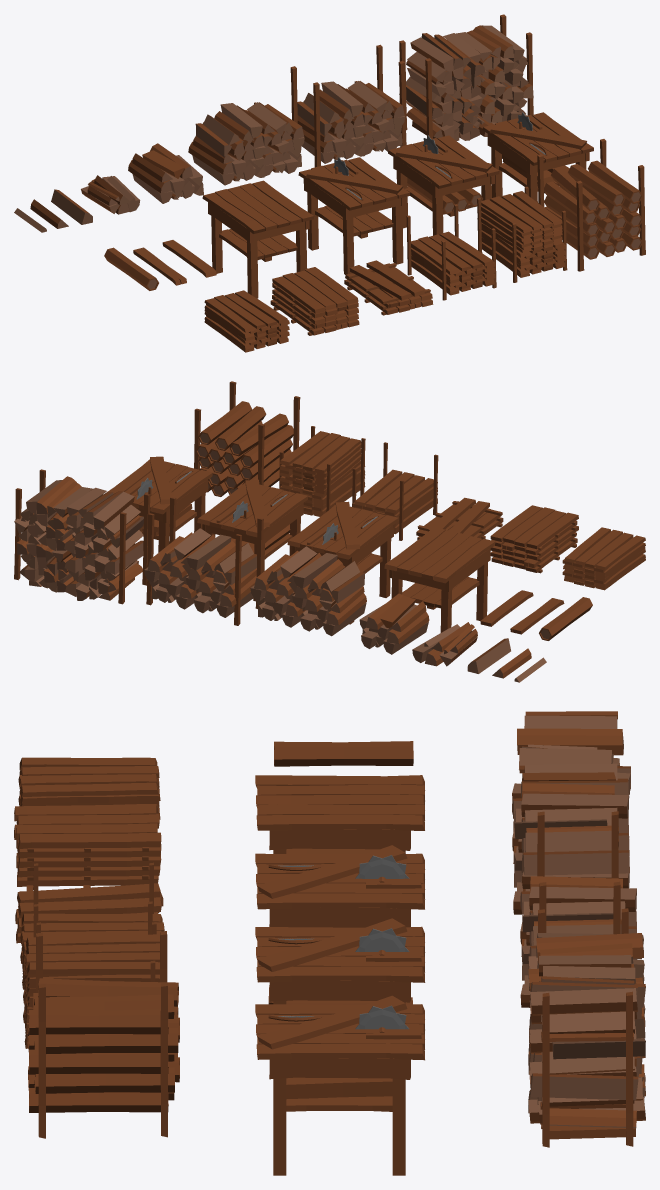
File: lumberpack_Collection.fbx
The picture shows the model from 3 angles, top to bottom: view 1: azimuth 30°, elevation 25°; view 2: azimuth 150°, elevation 25°; view 3: azimuth 270°, elevation 25°; orthographic projection. The views are drawn at different scales.
Parts seen in each view (by area): view 1: Firewood_pile_05, Log_pile, Firewood_pile_04, Sawbench, Firewood_pile_03, Bench, Sawbench_Logs, Plankpile_01_big, Sawbench_Planks, Plankpile_01_small, Plankpile_02_big, Stacked_planks (+7 smaller); view 2: Firewood_pile_05, Firewood_pile_04, Firewood_pile_03, Log_pile, Bench, Plankpile_01_big, Sawbench_Logs, Sawbench, Sawbench_Planks, Plankpile_02_big, Stacked_planks, Plankpile_01_small (+8 smaller); view 3: Firewood_pile_05, Log_pile, Sawbench_Planks, Sawbench_Logs, Bench, Sawbench, Plankpile_02_big, Firewood_pile_03, Firewood_pile_04, Stacked_planks, Plankpile_01_big, Plankpile_02_small (+6 smaller).
Part boxes in pixels (x1,y1,x2,y2): Firewood_pile_05: (399,14,533,140); Log_pile: (537,139,645,271); Firewood_pile_04: (290,44,406,167); Sawbench: (298,157,409,274); Firewood_pile_03: (188,102,304,185); Bench: (202,180,314,298); Sawbench_Logs: (388,135,499,235); Plankpile_01_big: (477,186,567,282); Sawbench_Planks: (482,112,593,202); Plankpile_01_small: (406,204,496,300); Plankpile_02_big: (270,267,359,335); Stacked_planks: (204,290,289,352); Firewood_pile_05: (14,469,150,604); Firewood_pile_04: (144,497,263,625); Firewood_pile_03: (250,546,366,636); Log_pile: (194,381,300,496); Bench: (384,527,495,632); Plankpile_01_big: (279,426,365,516); Sawbench_Logs: (197,479,308,601); Sawbench: (287,501,398,624); Sawbench_Planks: (105,456,212,552); Plankpile_02_big: (490,505,578,573); Stacked_planks: (562,527,645,590); Plankpile_01_small: (352,442,438,540); Firewood_pile_05: (528,908,645,1147); Log_pile: (28,931,179,1138); Sawbench_Planks: (255,995,424,1175); Sawbench_Logs: (255,918,425,1004); Bench: (255,775,425,854); Sawbench: (255,845,425,927); Plankpile_02_big: (14,805,161,890); Firewood_pile_03: (512,783,629,914); Firewood_pile_04: (520,811,637,1007); Stacked_planks: (18,757,160,819); Plankpile_01_big: (23,922,159,1048); Plankpile_02_small: (15,883,163,943).
Bounding box in the file's own units: 876 × 207 × 574.
